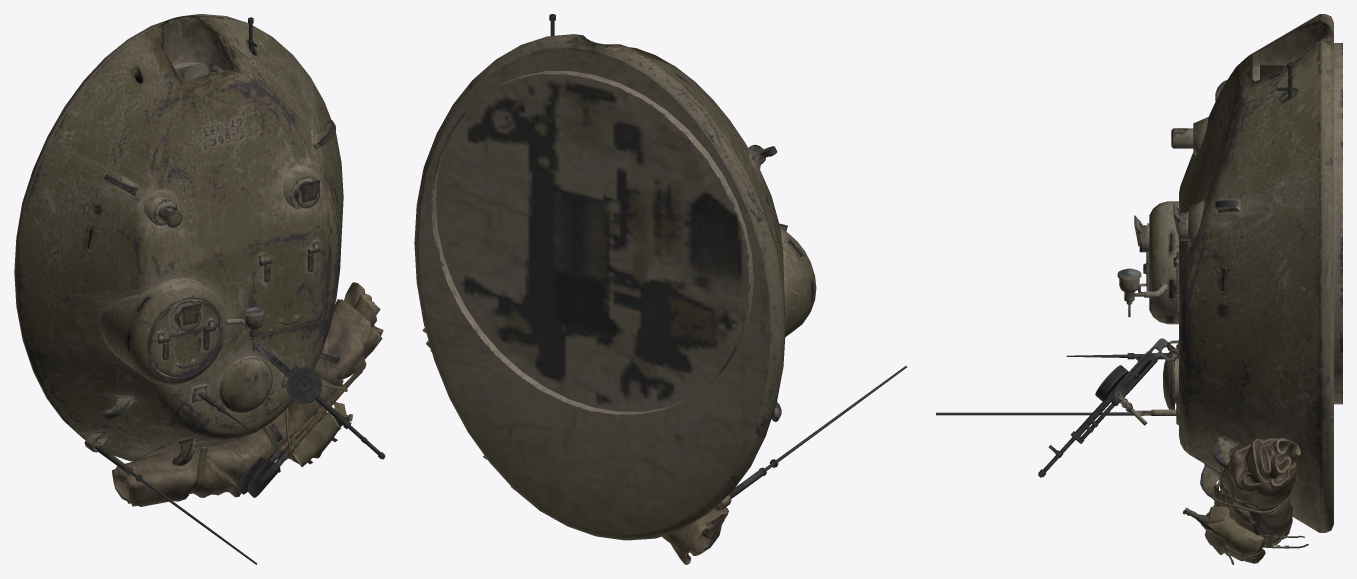
The model's file is Turret_02.glb.
The picture shows the model from 3 angles, left to right: view 1: azimuth 30°, elevation 25°; view 2: azimuth 150°, elevation 25°; view 3: azimuth 270°, elevation 25°; orthographic projection. The views are drawn at different scales.
Visible parts, largest first — view 1: set_0_group_0, set_0_group_1; view 2: set_0_group_0; view 3: set_0_group_0, set_0_group_1.
Part boxes in pixels (x1=…): set_0_group_0: x1=14, y1=14, x2=385, y2=564; set_0_group_1: x1=189, y1=364, x2=365, y2=497; set_0_group_0: x1=414, y1=14, x2=907, y2=564; set_0_group_0: x1=936, y1=14, x2=1342, y2=544; set_0_group_1: x1=1182, y1=466, x2=1308, y2=564.
Bounding box in the file's own units: 2.5 × 3.24 × 2.34.
2 materials, 2 textured.
